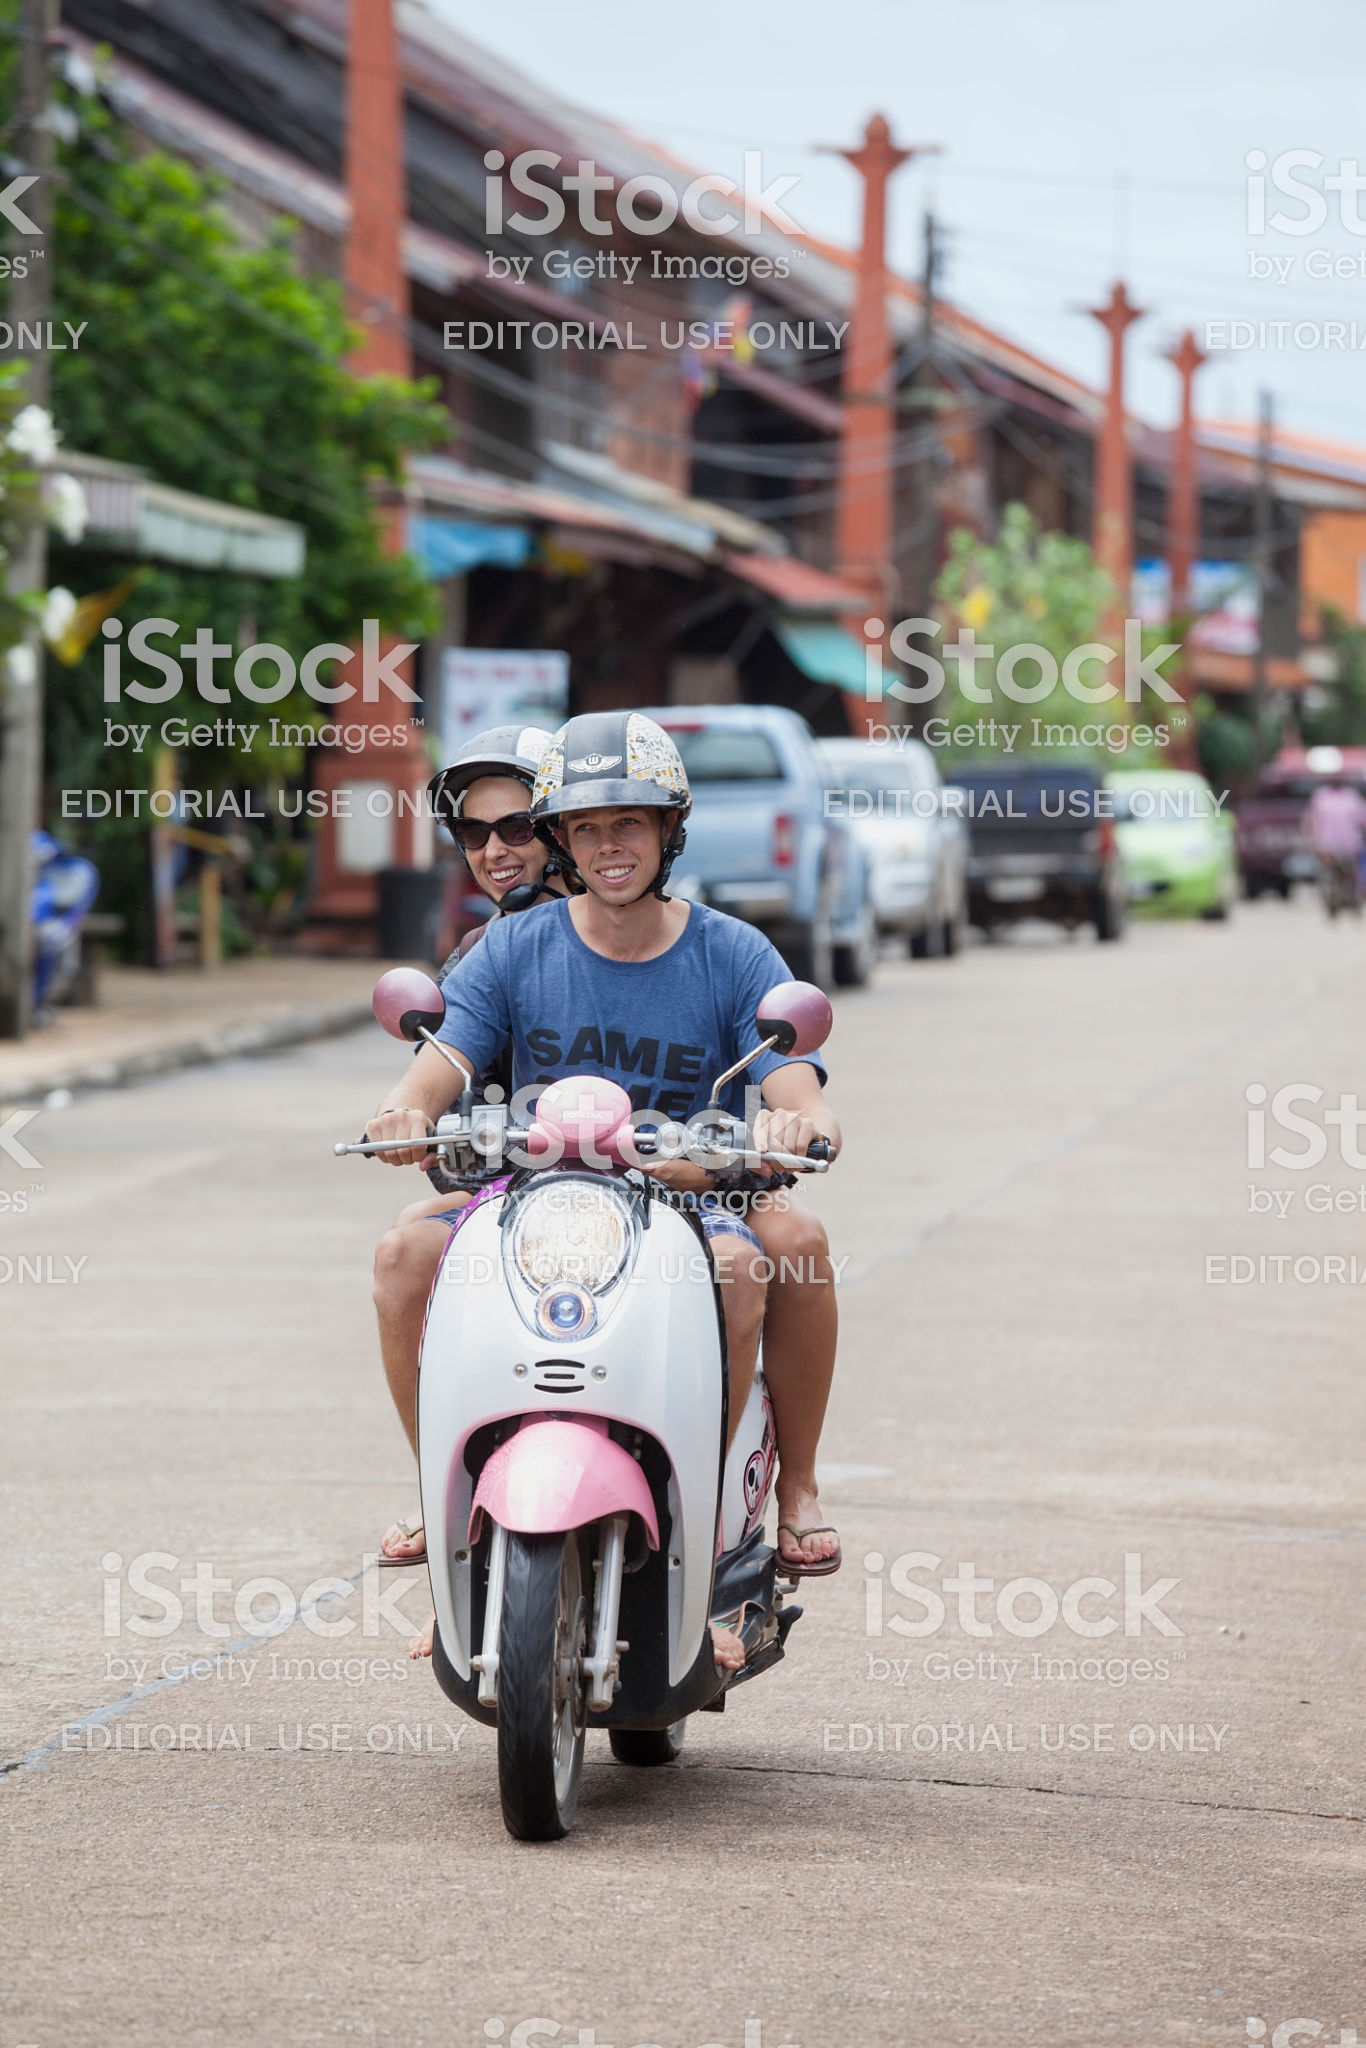helmet: (517, 710, 742, 853), (398, 681, 567, 782)
